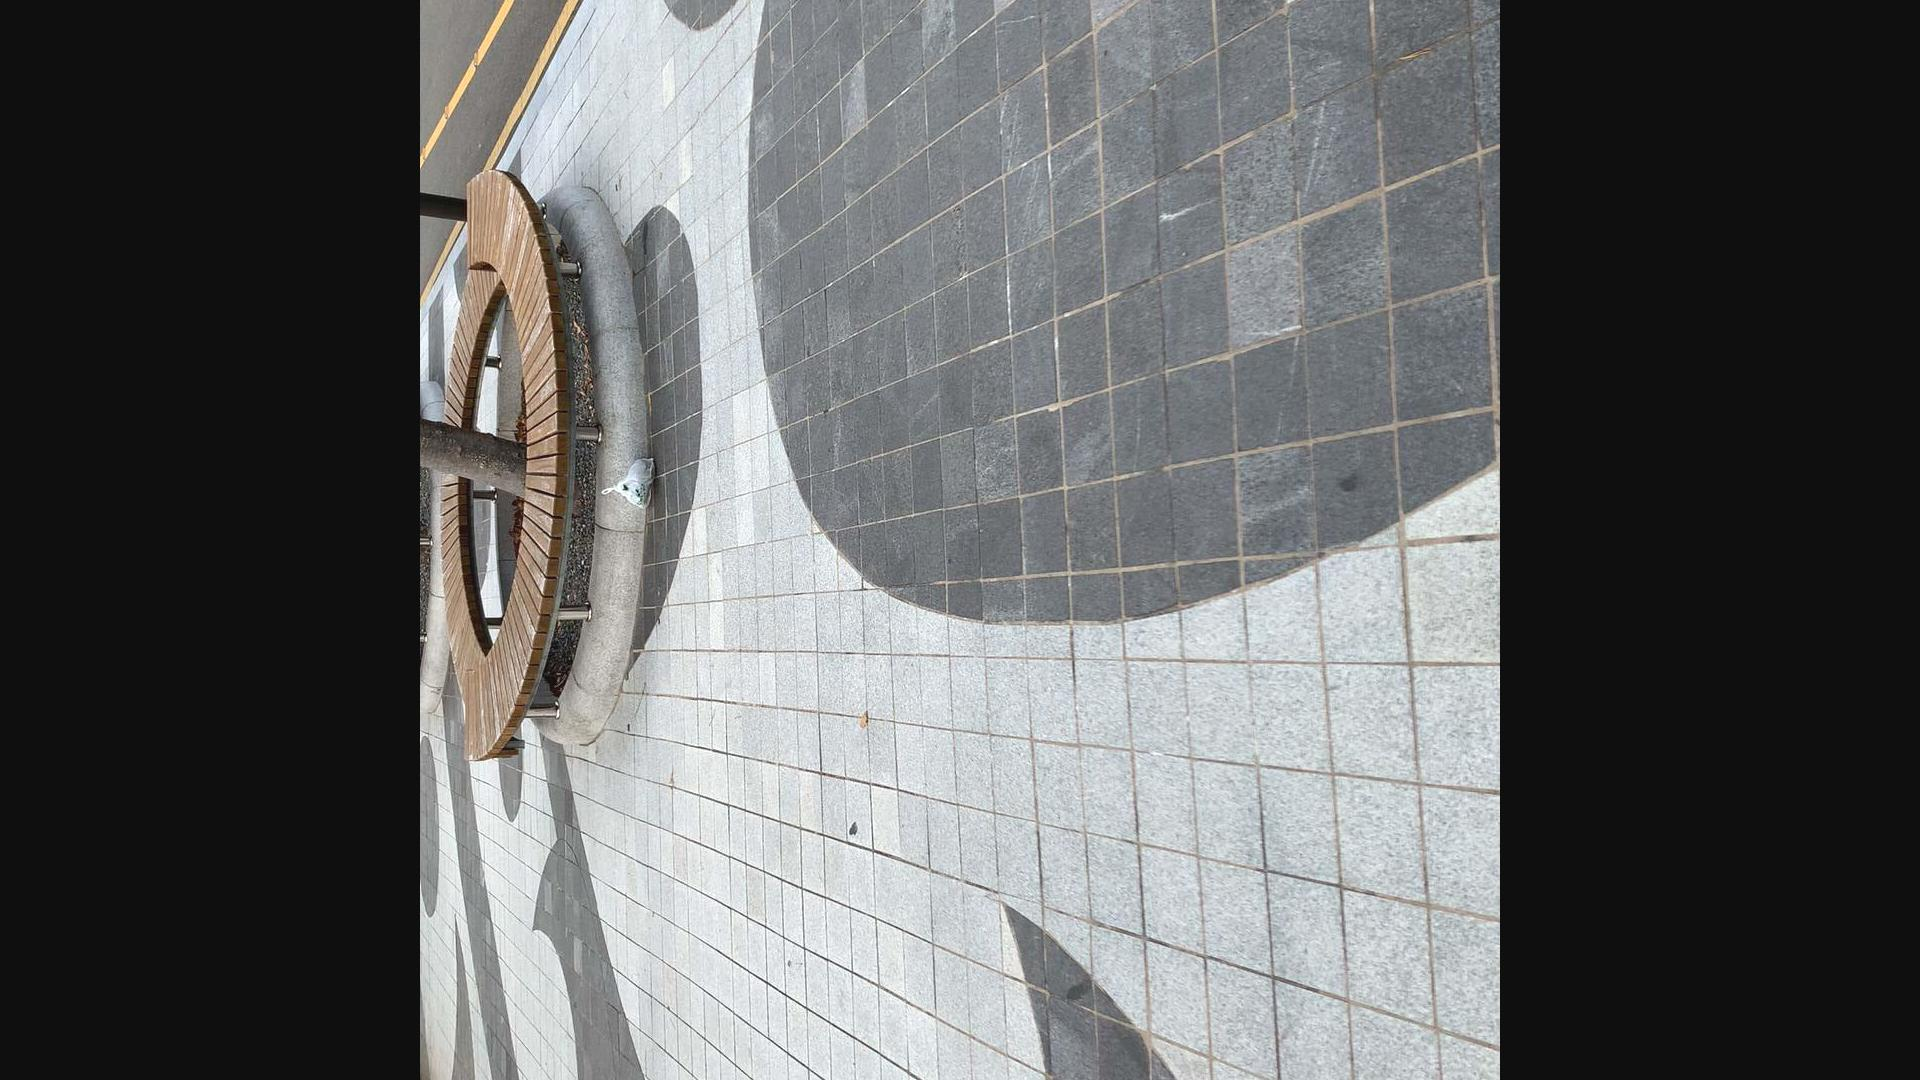white_bag: (599, 448, 658, 516)
